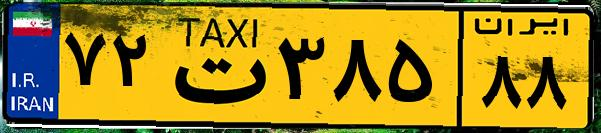2: (110, 28, 158, 98)
3: (270, 28, 330, 110)
5: (385, 28, 445, 110)
7: (57, 26, 110, 100)
8: (330, 28, 385, 110), (475, 38, 525, 113), (525, 38, 570, 115)
ت: (158, 12, 270, 120)
